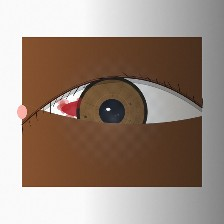hemorrhage_spot: (51, 76, 132, 141)
